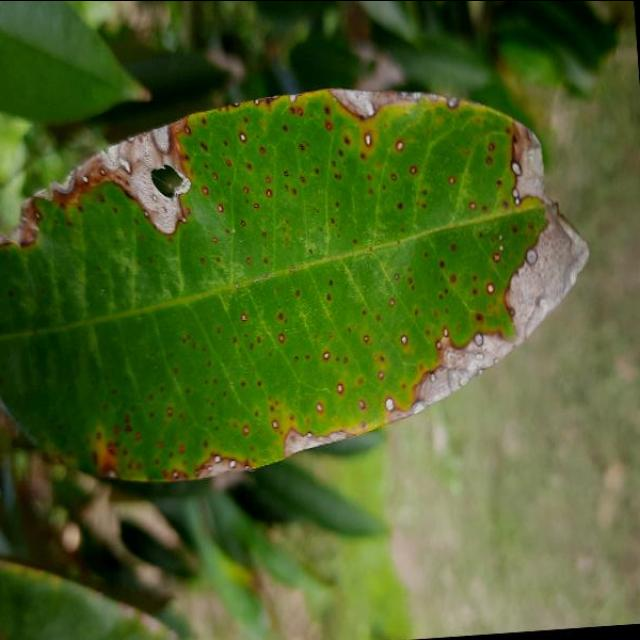Leaf Spot: (0, 65, 611, 512)
